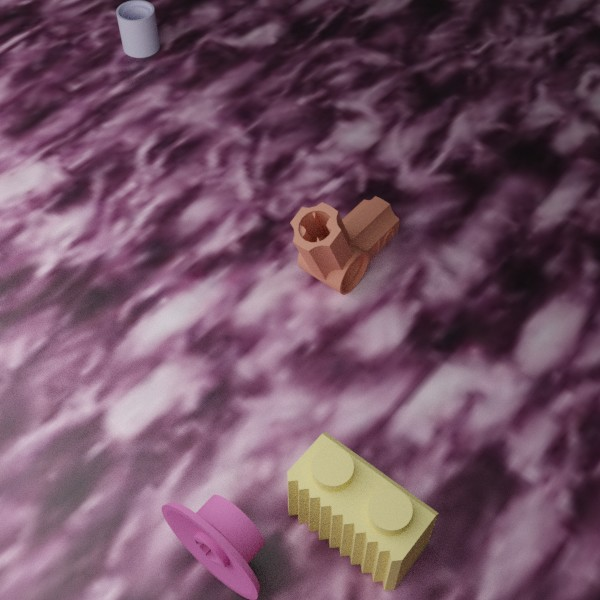lego: (287, 432, 438, 591), (161, 494, 264, 599), (290, 196, 399, 294), (116, 0, 160, 57)
